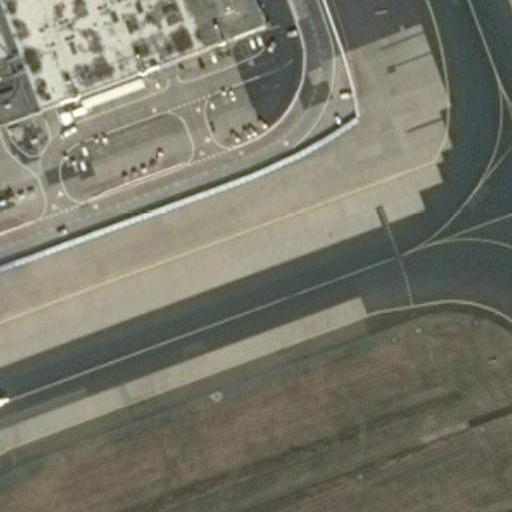Aircraft: (0, 363, 13, 461), (0, 364, 10, 461)
